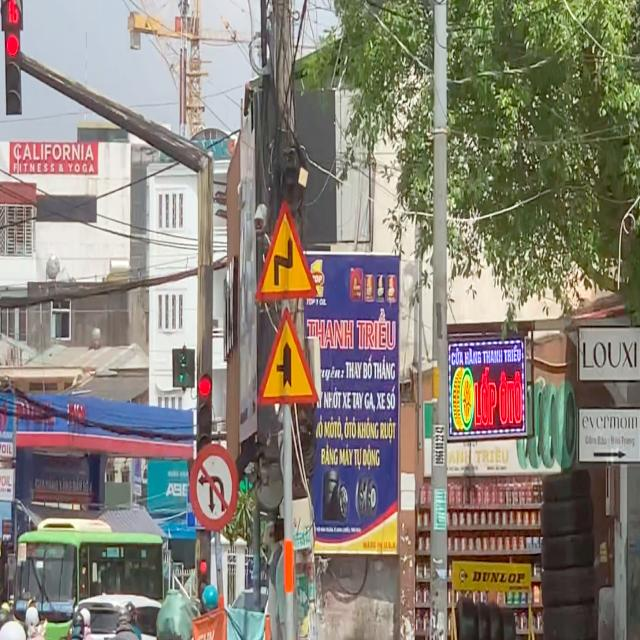Cam con lai: (187, 441, 239, 532)
Giao voi duong khong uu tien: (256, 305, 320, 408)
Nguy hiem: (254, 200, 319, 302)
